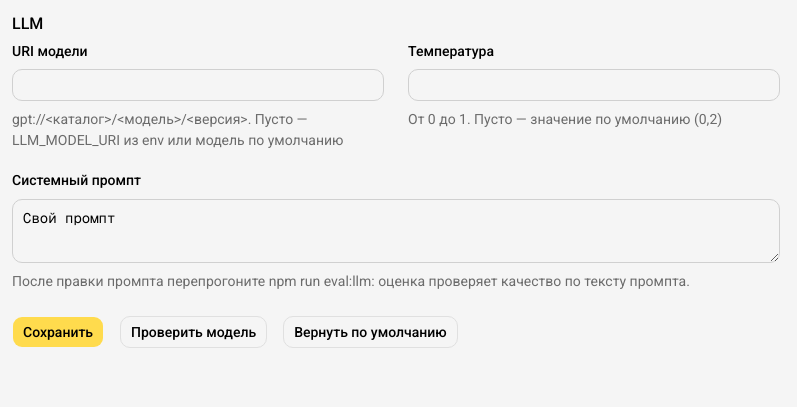
Test: LlmSettingsForm › «Вернуть по умолчанию» подставляет встроенный текст
Expected: the text box labelled "Системный промпт" holds "Свой промпт", top-left (12, 198), bottom-right (780, 262)
Click the button "Вернуть по умолчанию".
click(370, 332)  # box top-left (283, 316), bottom-right (458, 348)
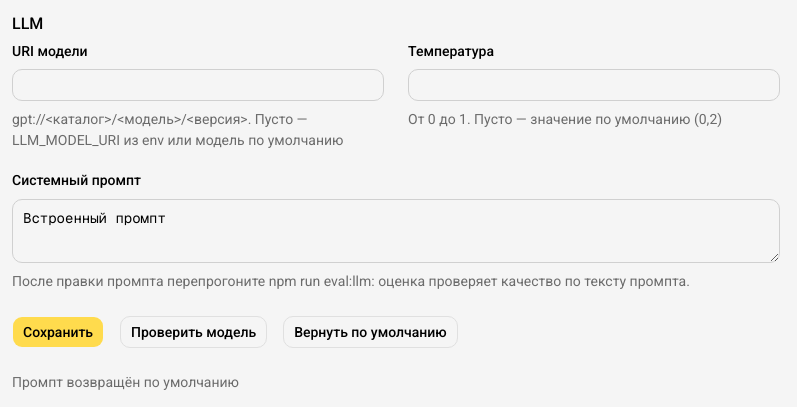
Expected: the text "Промпт возвращён по умолчанию" is shown, top-left (12, 374), bottom-right (239, 390)
Expected: the text box labelled "Системный промпт" holds "Встроенный промпт", top-left (12, 198), bottom-right (780, 262)
